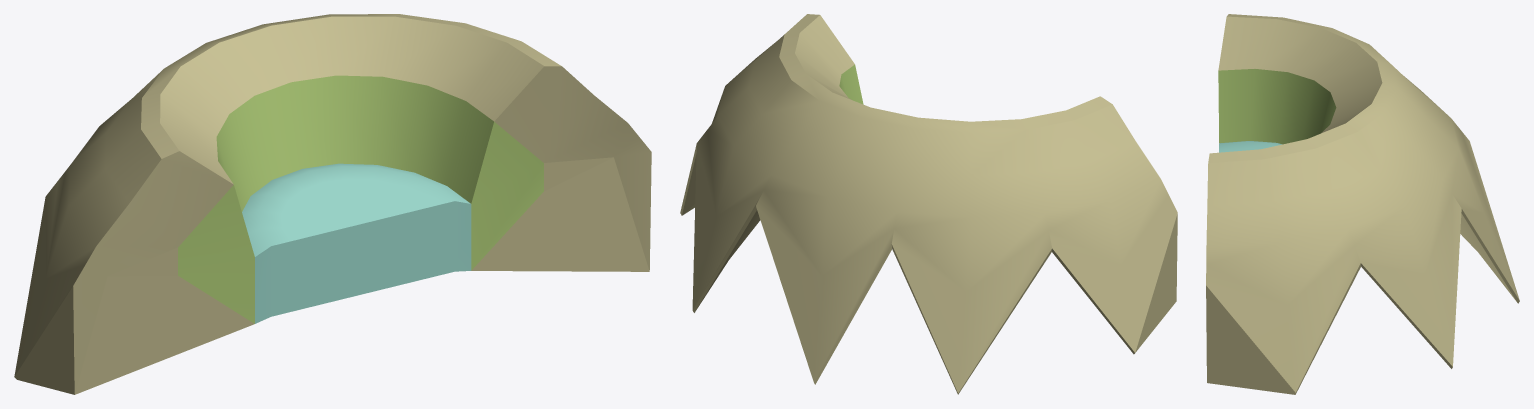
File: Kappa_Kopf (2).fbx
The picture shows the model from 3 angles, left to right: view 1: azimuth 30°, elevation 25°; view 2: azimuth 150°, elevation 25°; view 3: azimuth 270°, elevation 25°; orthographic projection. The views are drawn at different scales.
Parts seen in each view (by area): view 1: polySurface70; view 2: polySurface70; view 3: polySurface70.
Part boxes in pixels (x1,y1,x2,y2): polySurface70: [14, 14, 651, 394]; polySurface70: [680, 14, 1177, 394]; polySurface70: [1206, 14, 1519, 394].
Size of the model in its own units: 7.38 by 3.38 by 4.24.
